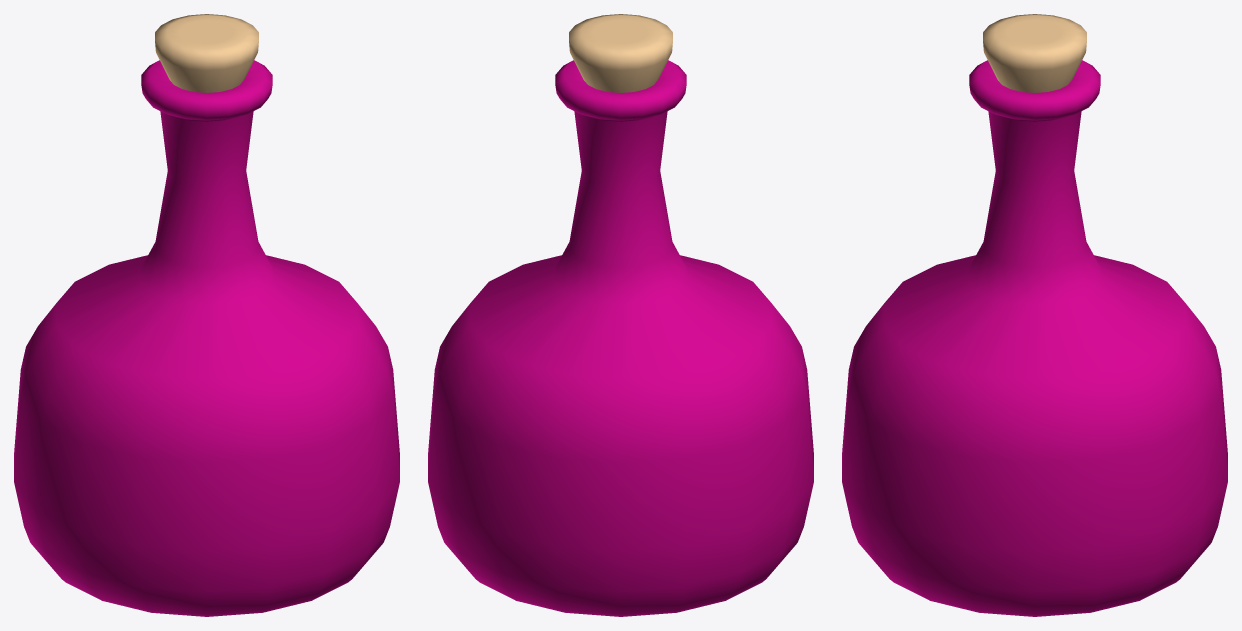
Rendered from SM_Bottle.FBX.
3 renders of one model, left to right at view 1: azimuth 30°, elevation 25°; view 2: azimuth 150°, elevation 25°; view 3: azimuth 270°, elevation 25°, orthographic.
Visible parts, largest first — view 1: Cylinder001; view 2: Cylinder001; view 3: Cylinder001.
Boxes of the visible parts, bbox=[...] form: Cylinder001: bbox=[14, 14, 399, 616]; Cylinder001: bbox=[428, 14, 813, 616]; Cylinder001: bbox=[842, 14, 1227, 616].
Bounding box in the file's own units: 75.42 × 113 × 74.27.
